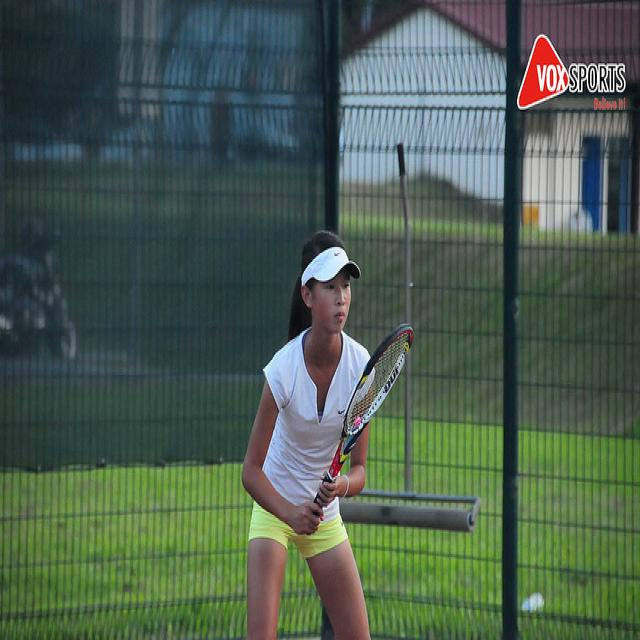motor: (0, 211, 77, 363)
